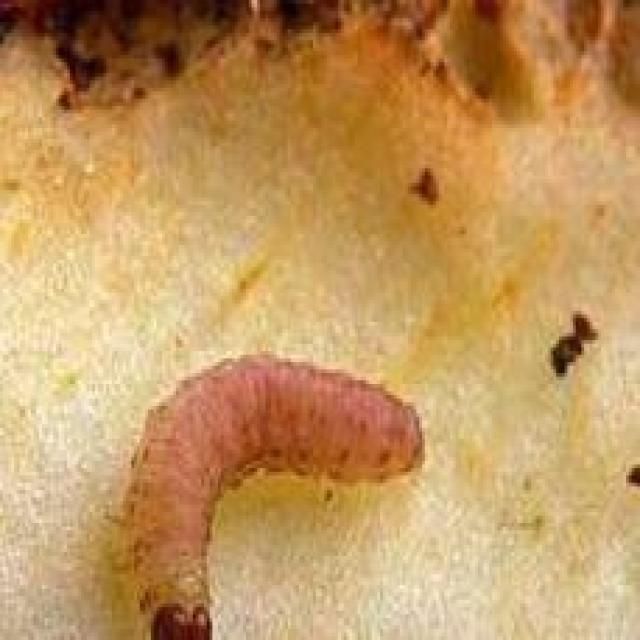peach borer: (116, 348, 423, 640)
